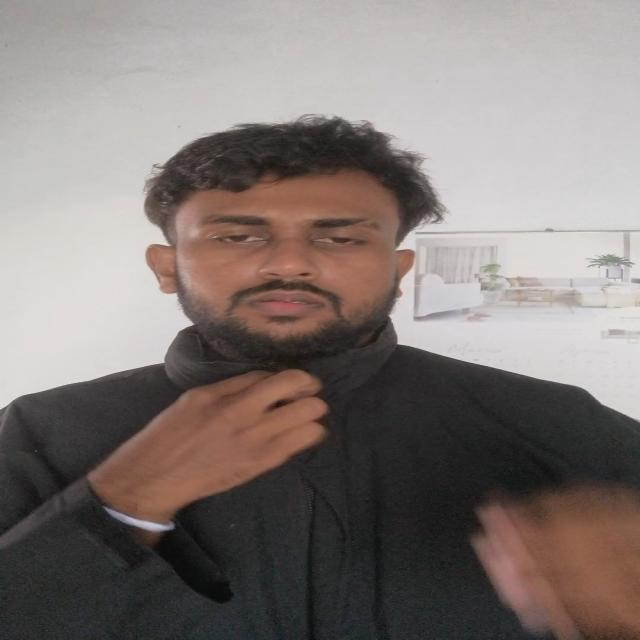Jacket_Wearer: (0, 296, 640, 640)
Person: (1, 131, 639, 640)
